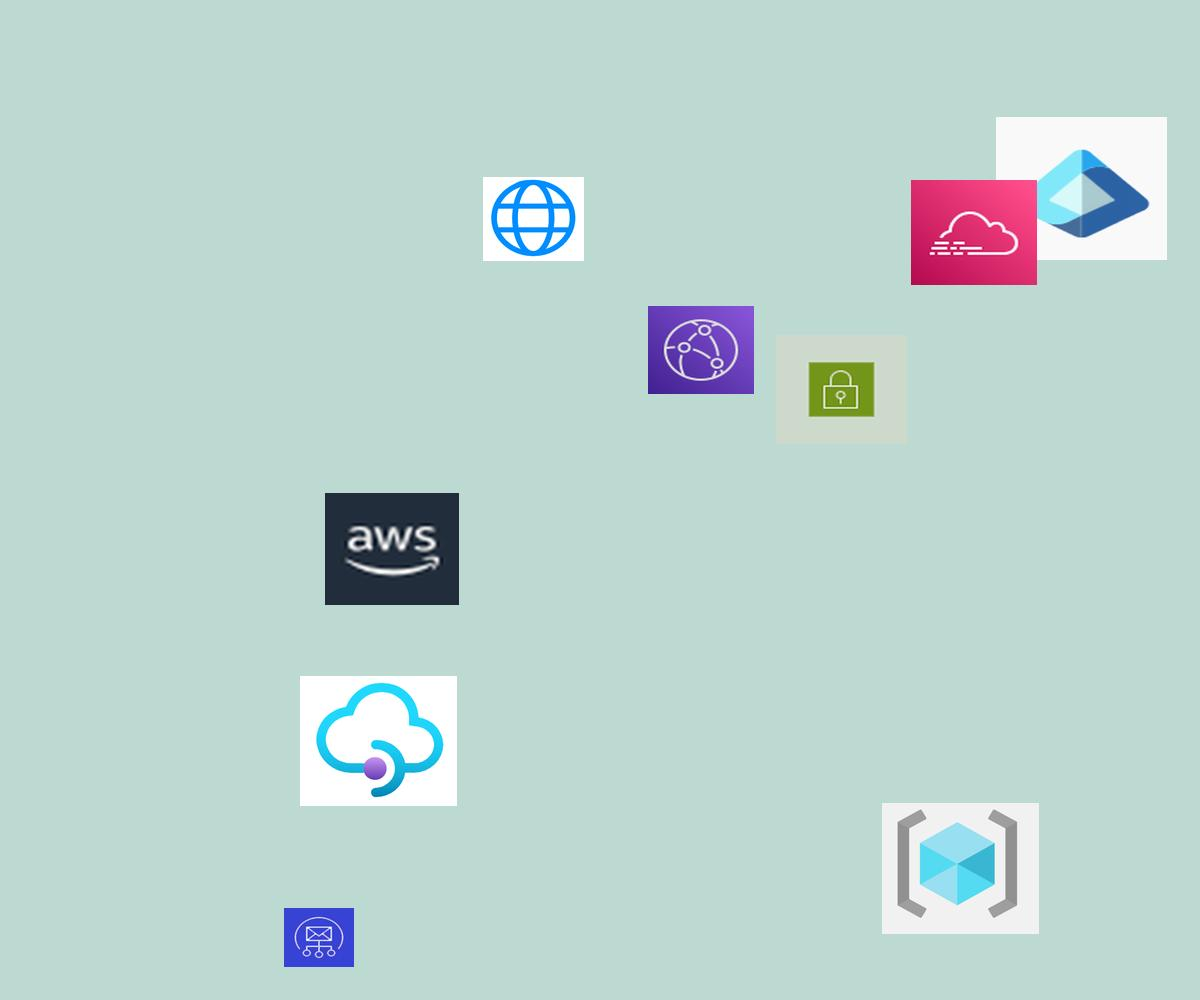AWS-Cloud-logo: (325, 493, 459, 605)
AWS-CloudFront: (648, 306, 754, 394)
AWS-CloudTrail: (911, 180, 1037, 285)
AWS-Public-subnet: (776, 335, 907, 444)
AWS-Simple-Email-Service: (284, 908, 354, 967)
Azure_api_gateway: (300, 676, 457, 806)
Azure_http: (483, 177, 584, 261)
Azure_microsoft_entra: (996, 117, 1167, 260)
Azure_resource_group: (882, 803, 1039, 934)
